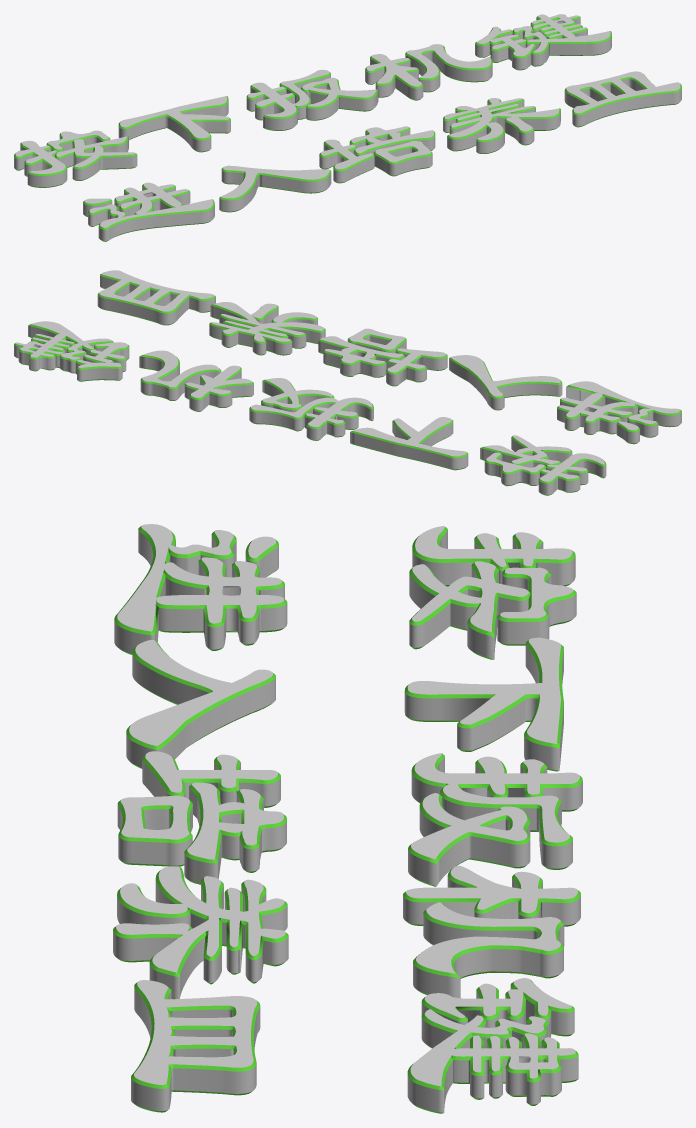
The model's file is trigger_enter.fbx.
3 views of the same model, one above another, from view 1: azimuth 30°, elevation 25°; view 2: azimuth 150°, elevation 25°; view 3: azimuth 270°, elevation 25° (orthographic). The views are drawn at different scales.
Parts seen in each view (by area): view 1: Text; view 2: Text; view 3: Text.
Part boxes in pixels (bbox=[...]): Text: bbox=[14, 14, 681, 241]; Text: bbox=[14, 270, 681, 495]; Text: bbox=[113, 524, 582, 1113].
Bounding box in the file's own units: 459 × 161 × 10.4.
